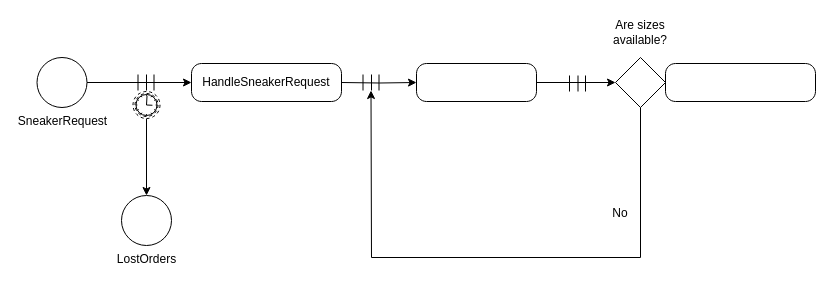
Image size: 833x283. Some labels were removed from this diagram. Each missing label, with the box of its shape:
HandleCheckoutRequest: (664, 62, 816, 102)
HandleSizeRequest: (416, 62, 536, 102)
